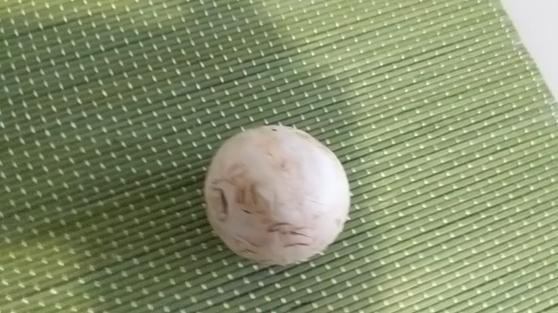champignon: (207, 123, 359, 267)
